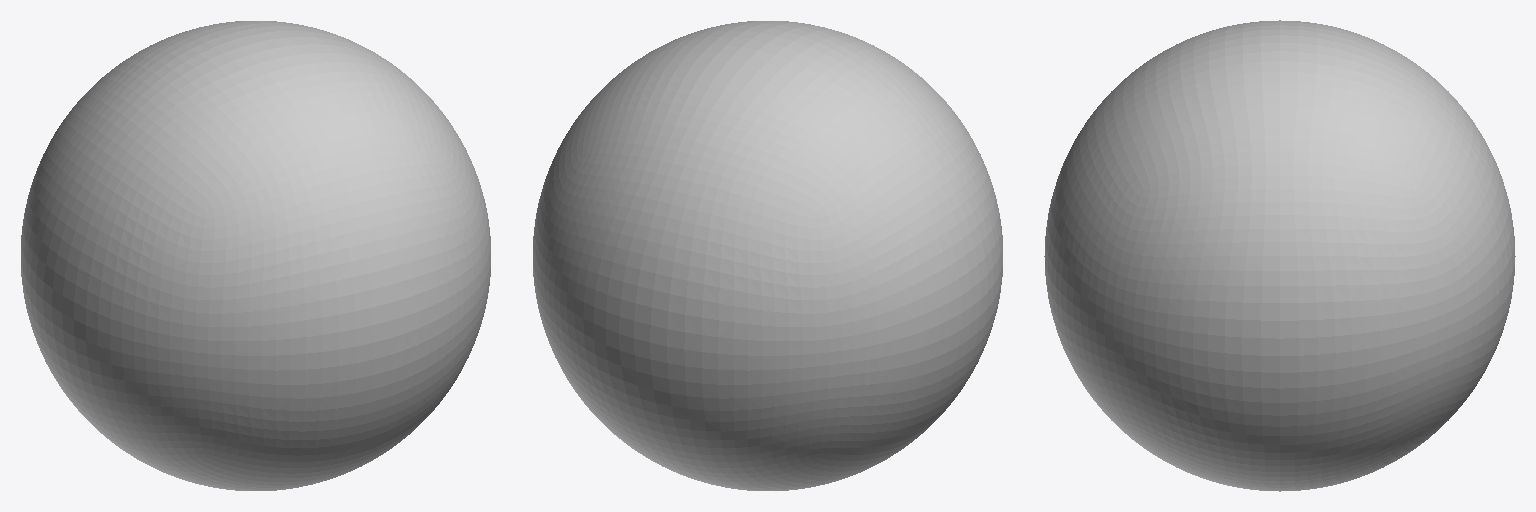
File: Phoenix_Planet.obj
3 views of the same model, side by side, from view 1: azimuth 30°, elevation 25°; view 2: azimuth 150°, elevation 25°; view 3: azimuth 270°, elevation 25° (orthographic).
Parts seen in each view (by area): view 1: Phoenix_LOD0; view 2: Phoenix_LOD0; view 3: Phoenix_LOD0.
Boxes of the visible parts, <box> form: Phoenix_LOD0: <box>21,21,490,490</box>; Phoenix_LOD0: <box>533,21,1002,490</box>; Phoenix_LOD0: <box>1044,20,1515,491</box>.
Size of the model in its own units: 43930 by 43930 by 43930.